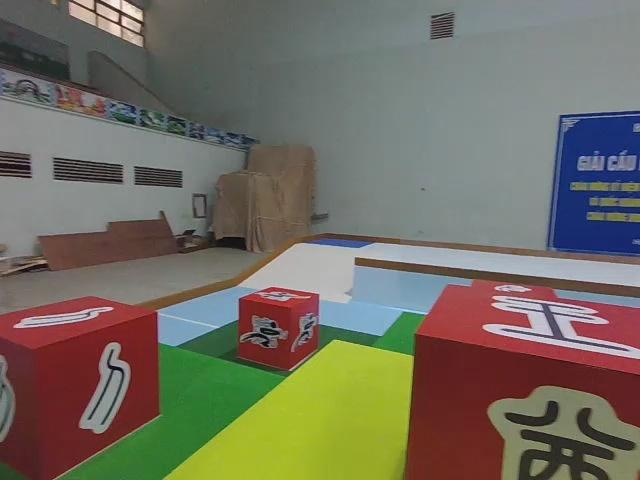R1: (236, 283, 321, 371)
R2 Real: (403, 281, 640, 480), (0, 293, 163, 480)
